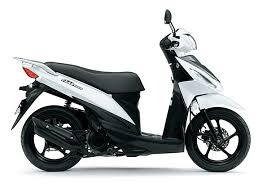motorcycle: (9, 7, 252, 173)
